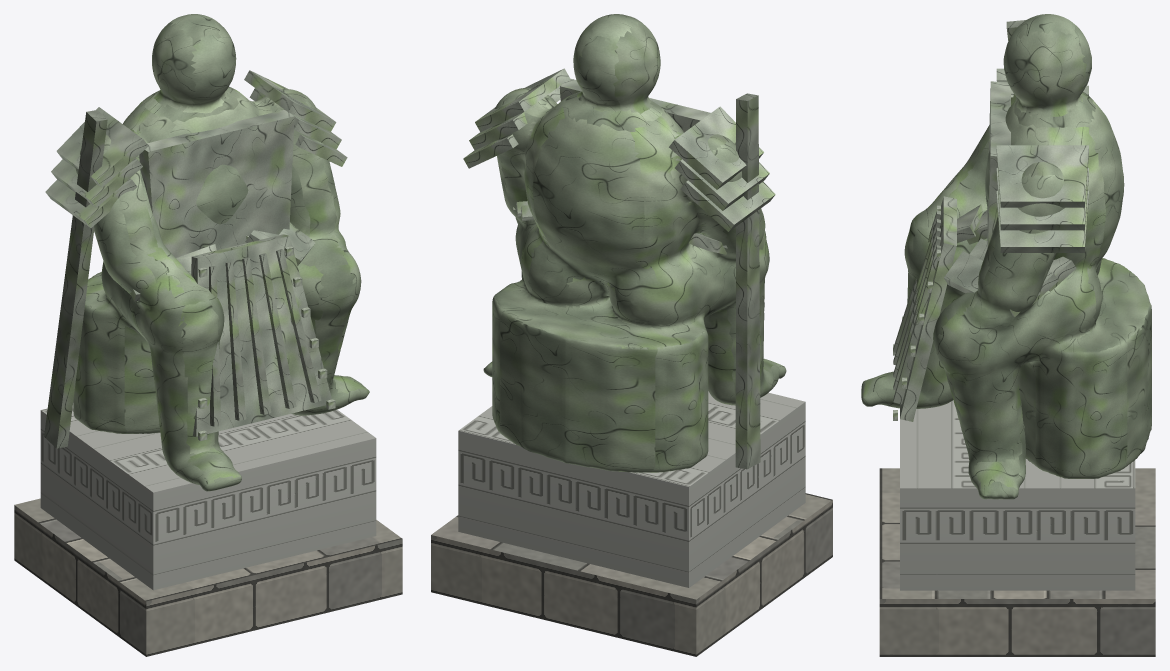
The model's file is statue2.glb.
The picture shows the model from 3 angles, left to right: view 1: azimuth 30°, elevation 25°; view 2: azimuth 150°, elevation 25°; view 3: azimuth 270°, elevation 25°; orthographic projection. The views are drawn at different scales.
Visible parts, largest first — view 1: statue2; view 2: statue2; view 3: statue2.
Part boxes in pixels (x1=…): statue2: x1=14, y1=14, x2=402, y2=656; statue2: x1=431, y1=14, x2=832, y2=656; statue2: x1=861, y1=14, x2=1155, y2=656.
Bounding box in the file's own units: 2.03 × 3.76 × 1.75.
3 materials, 3 textured.
